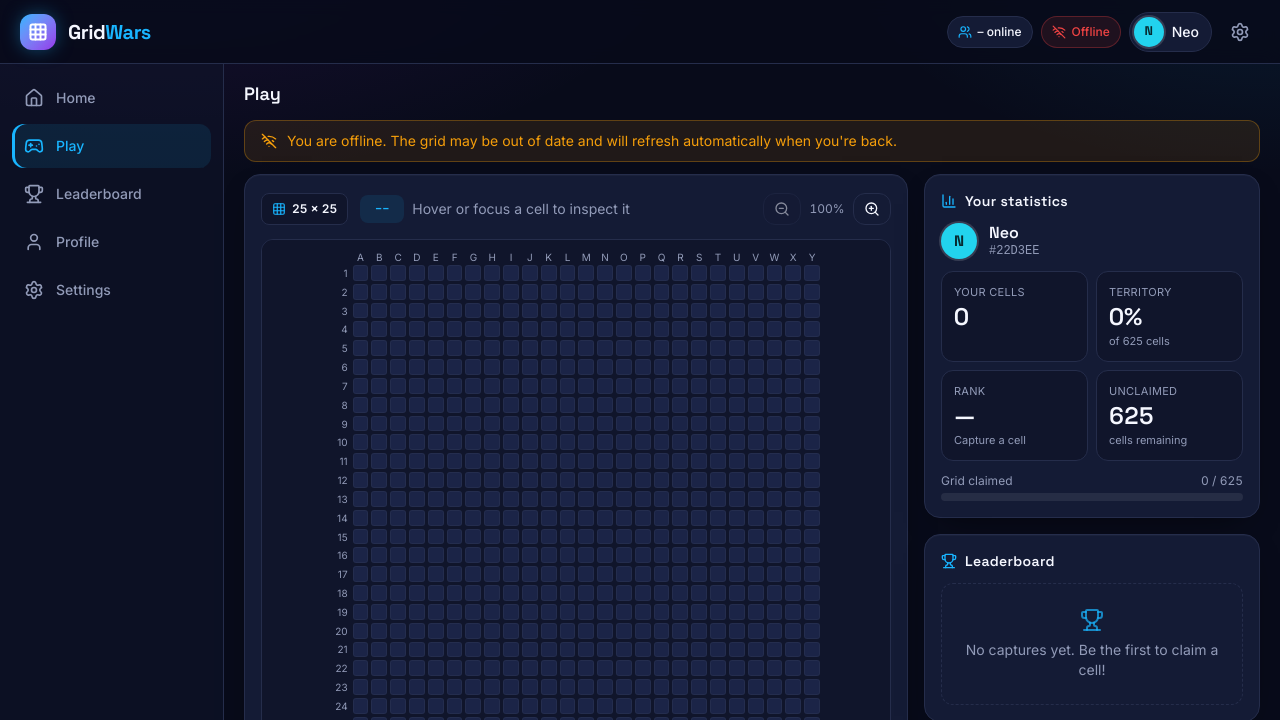
app shell › navigates between views from the sidebar and keeps the URL hash in sync
Click the button "Leaderboard".
click(112, 194)  # box [12, 172, 211, 216]
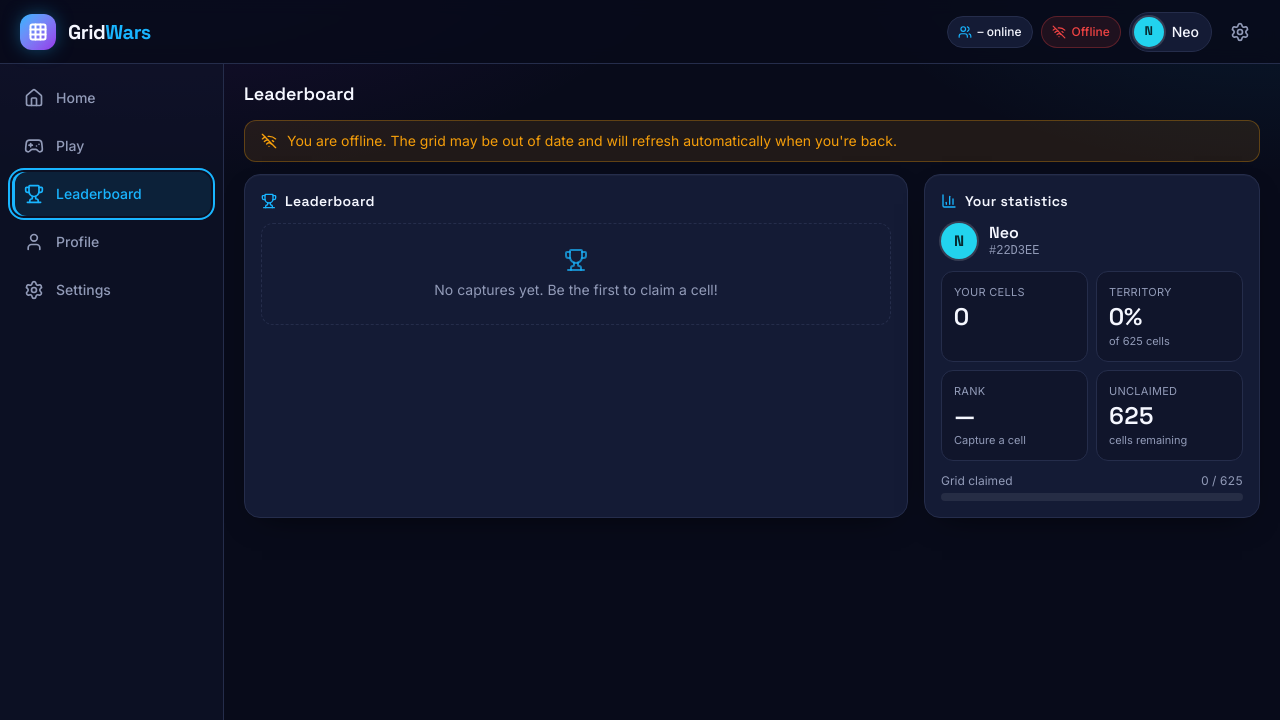
Expected: the element labelled "Leaderboard" is shown, [244, 174, 908, 518]
Click the button "Settings".
click(112, 290)  # box [12, 268, 211, 312]
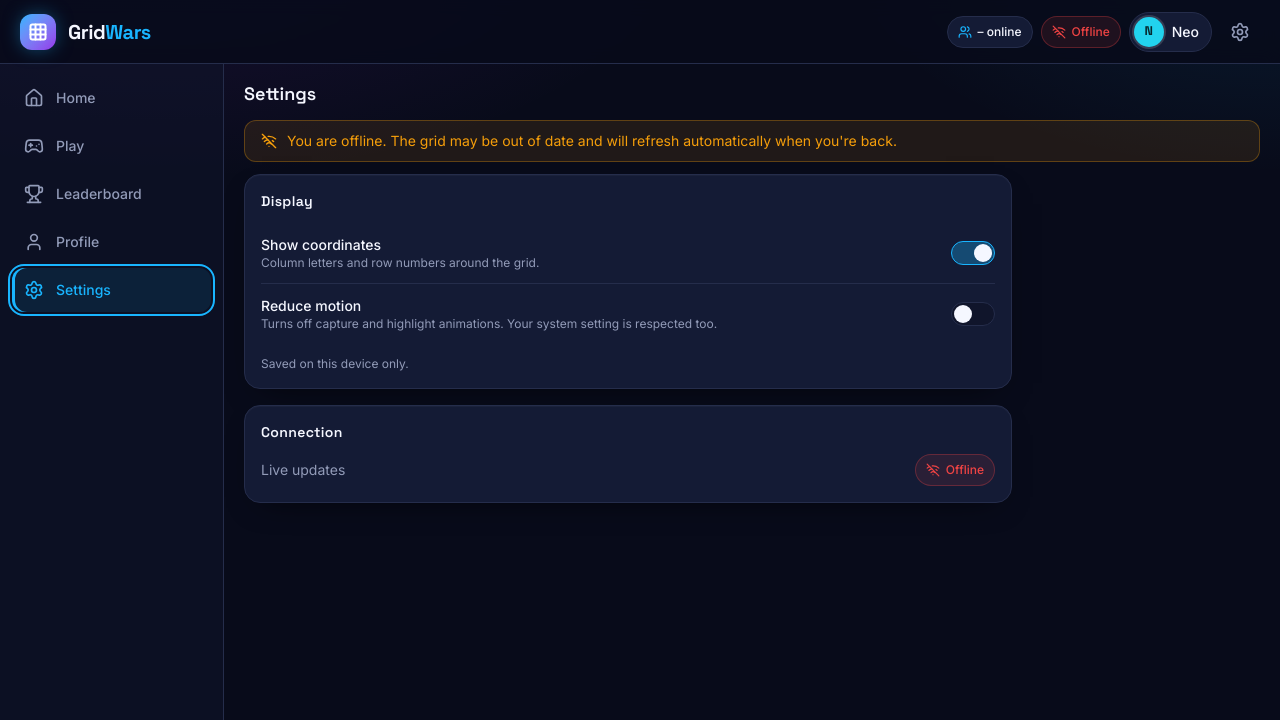
Expected: the switch named "Show coordinates" in the row of "Show coordinates" is checked, [951, 241, 995, 265]
